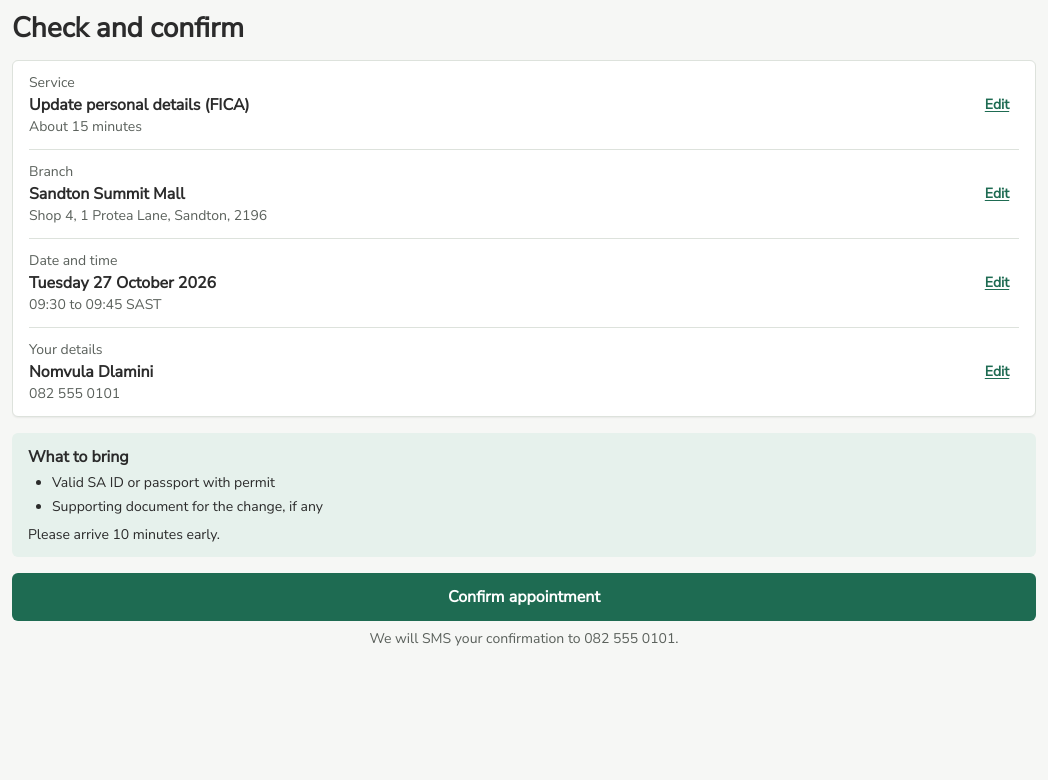
ReviewStep › words SLOT_WITHIN_LEAD_TIME by its code, with where to go next
The width and height of the screenshot is (1048, 780).
Click the button "Confirm appointment" at (524, 597), box [12,573,1036,621]
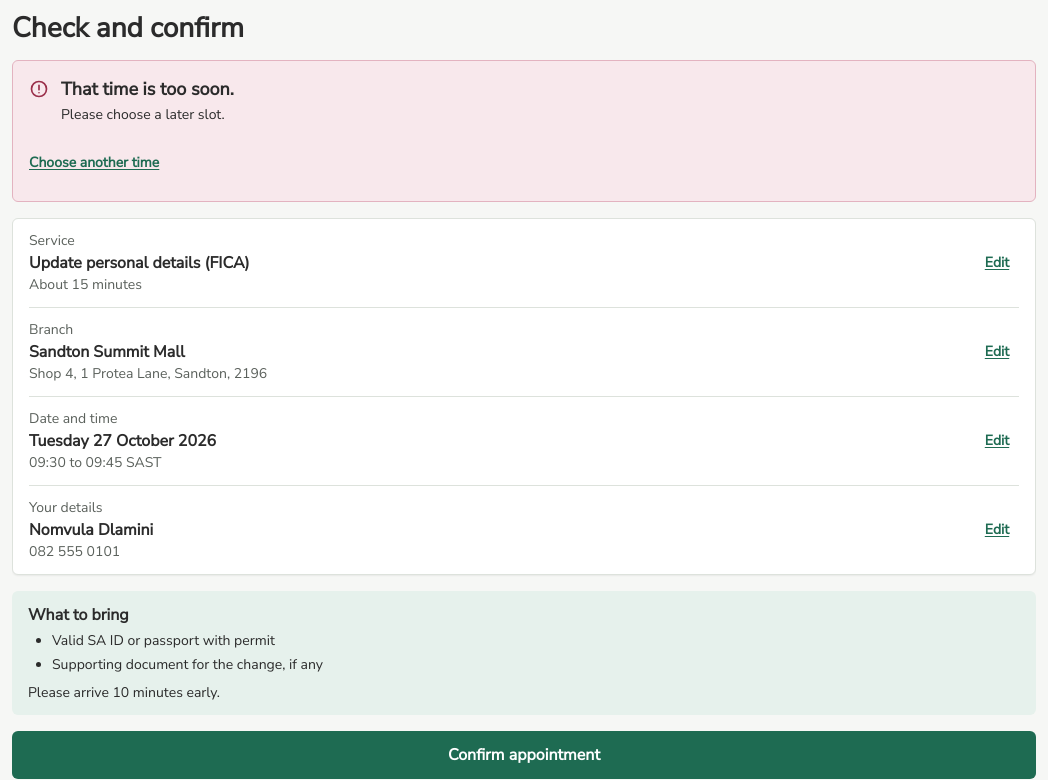
Expected: the message shows "That time is too soon.", [61,77,234,101]
